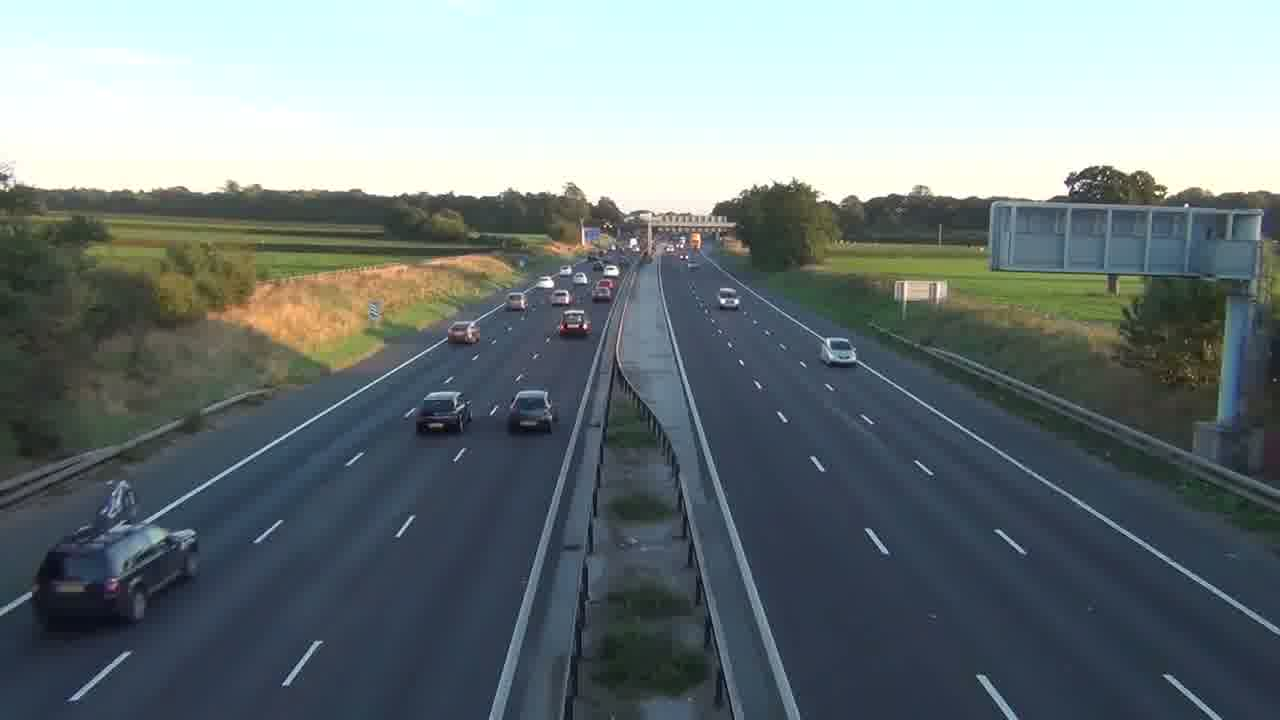car: (414, 390, 471, 434), (507, 388, 557, 433), (819, 336, 857, 367), (558, 308, 592, 338), (448, 318, 480, 344)
